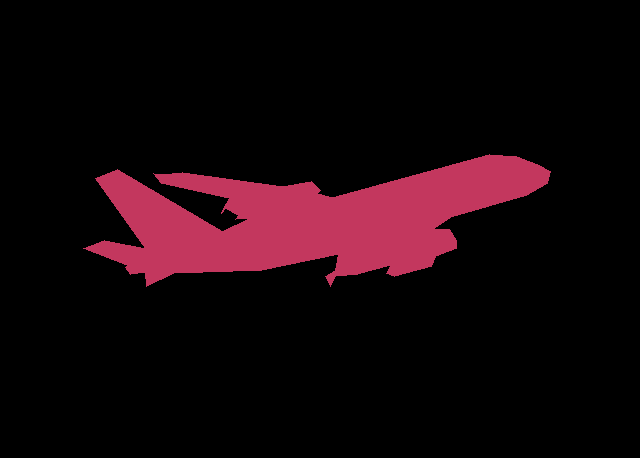Airplane: (83, 154, 551, 287)
